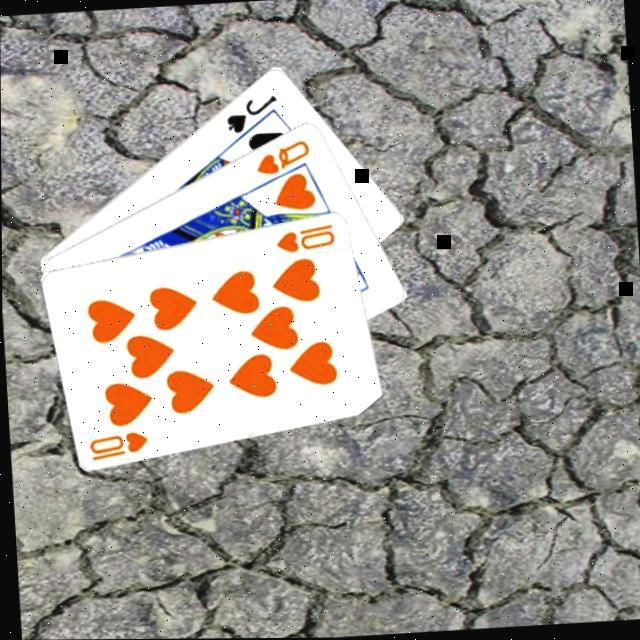10H: (273, 219, 339, 254), (86, 427, 152, 462)
JS: (222, 90, 282, 136)
QH: (252, 135, 315, 178)
